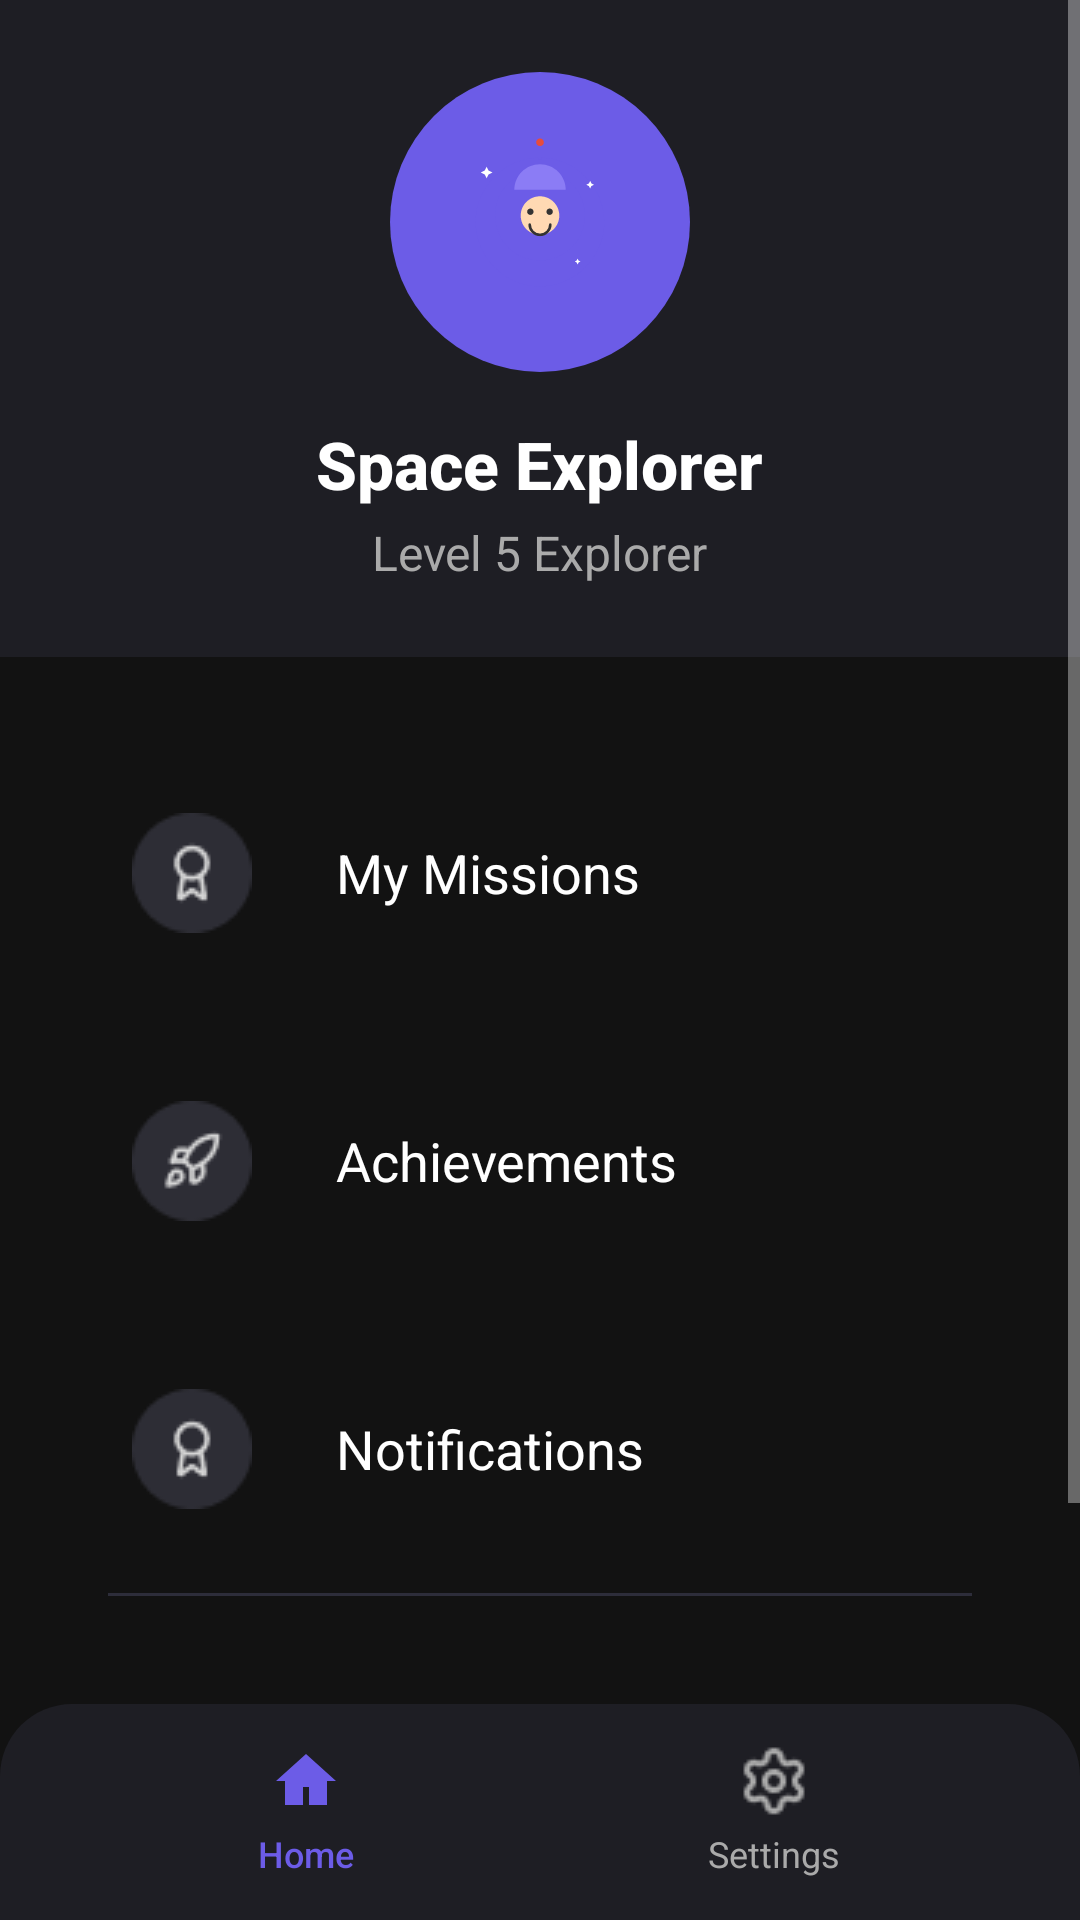

Where to tap for icons on this 1080*1920 app screen, as [x,y]:
astronaut: [540,222]
